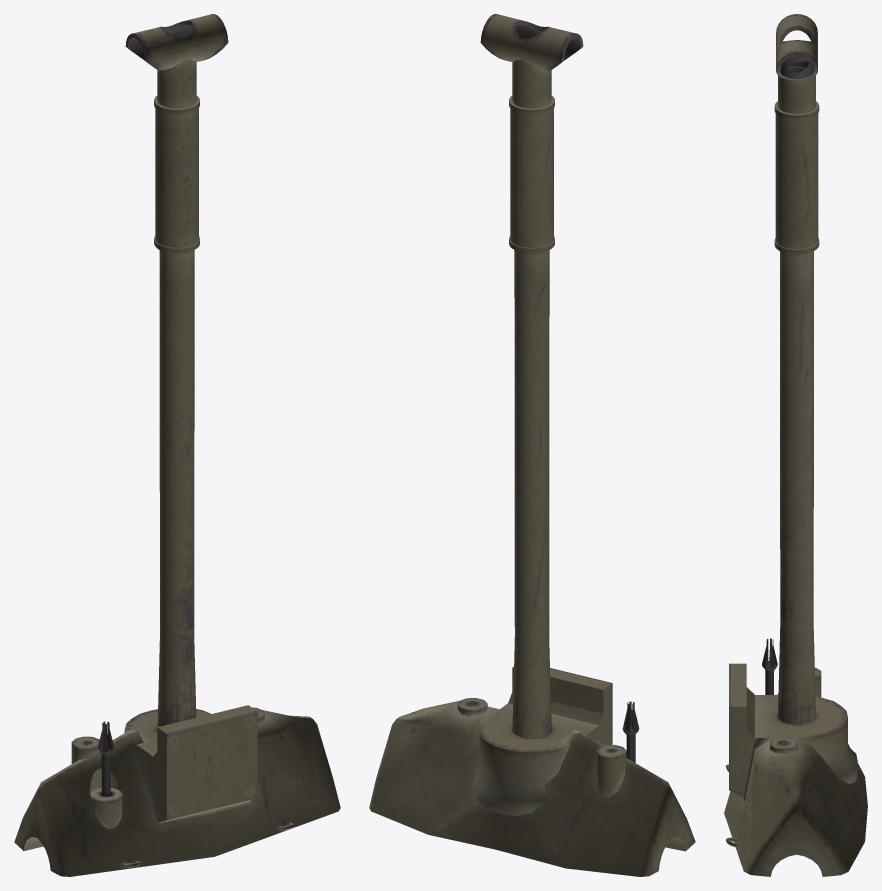
Rendered from Gun_03.glb.
3 renders of one model, left to right at view 1: azimuth 30°, elevation 25°; view 2: azimuth 150°, elevation 25°; view 3: azimuth 270°, elevation 25°, orthographic. The views are drawn at different scales.
Parts seen in each view (by area): view 1: set_0_group_0; view 2: set_0_group_0; view 3: set_0_group_0.
Part boxes in pixels (<box>): set_0_group_0: <box>14,14,340,876</box>; set_0_group_0: <box>369,14,695,876</box>; set_0_group_0: <box>724,14,867,876</box>.
Size of the model in its own units: 1.26 by 3.48 by 0.5793.
Materials: 1 (1 with a texture image).
